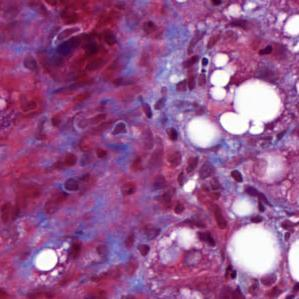inflammation: (239, 181, 276, 216), (194, 52, 219, 77), (226, 166, 250, 186), (220, 259, 239, 283)
